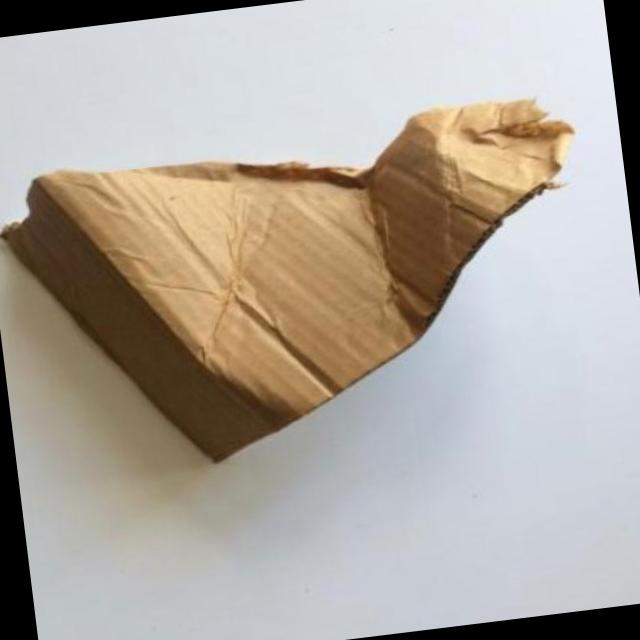cardboard paper: (3, 98, 572, 459)
